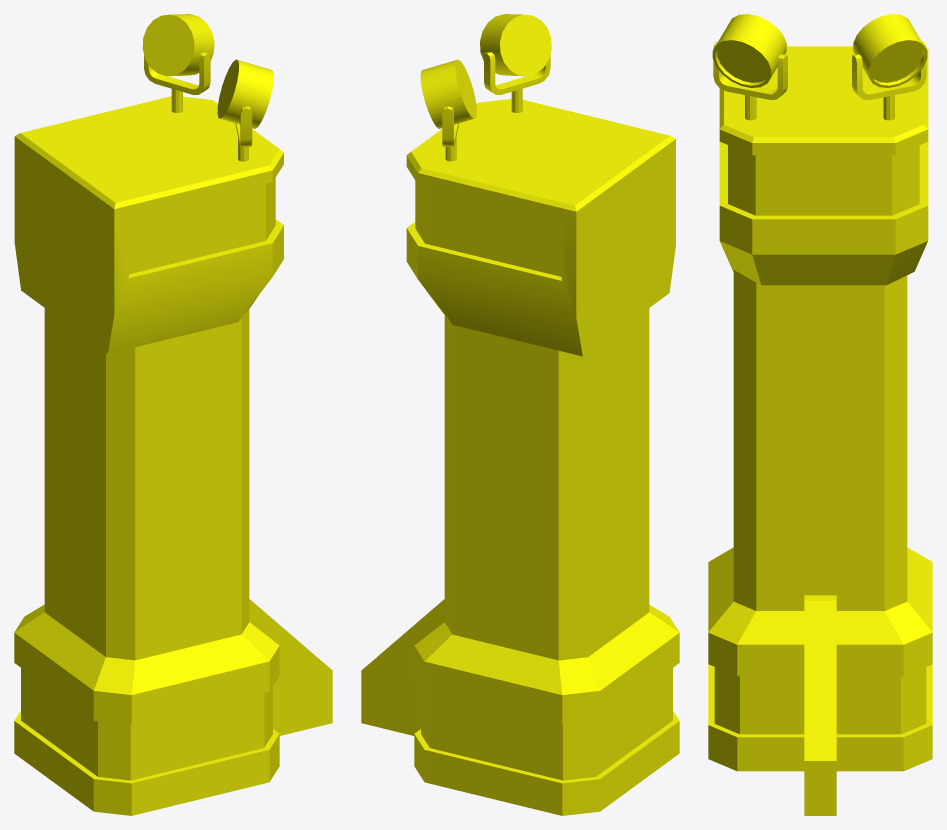
3 renders of one model, left to right at view 1: azimuth 30°, elevation 25°; view 2: azimuth 150°, elevation 25°; view 3: azimuth 270°, elevation 25°, orthographic. The views are drawn at different scales.
Parts seen in each view (by area): view 1: military_watchtower; view 2: military_watchtower; view 3: military_watchtower.
Boxes of the visible parts, x1,y1,x2,y2 form: military_watchtower: [14, 14, 332, 815]; military_watchtower: [361, 14, 679, 815]; military_watchtower: [708, 14, 932, 815].
Size of the model in its own units: 0.0444 by 0.1107 by 0.0304.
Materials: 1 (1 with a texture image).
